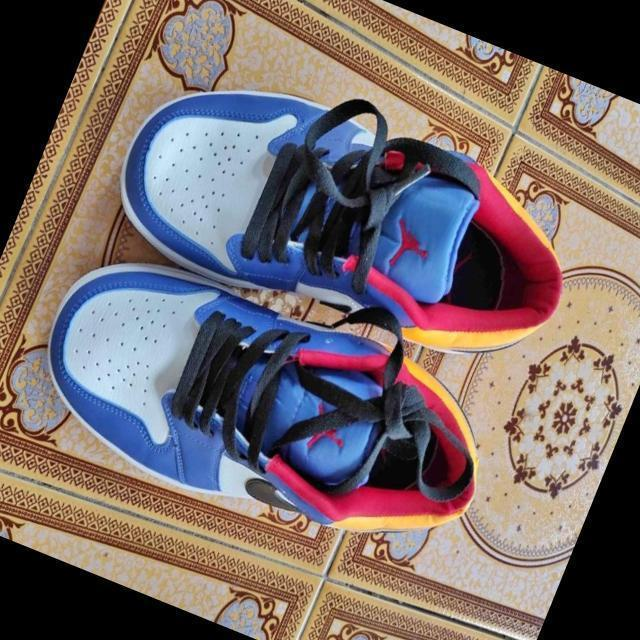nike fake jordan 1: (95, 36, 598, 404), (14, 226, 513, 590)
